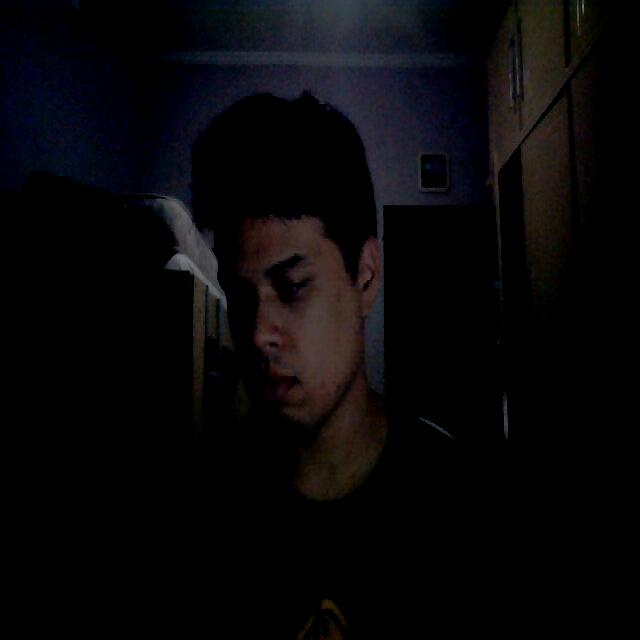acordado: (206, 140, 384, 448)
